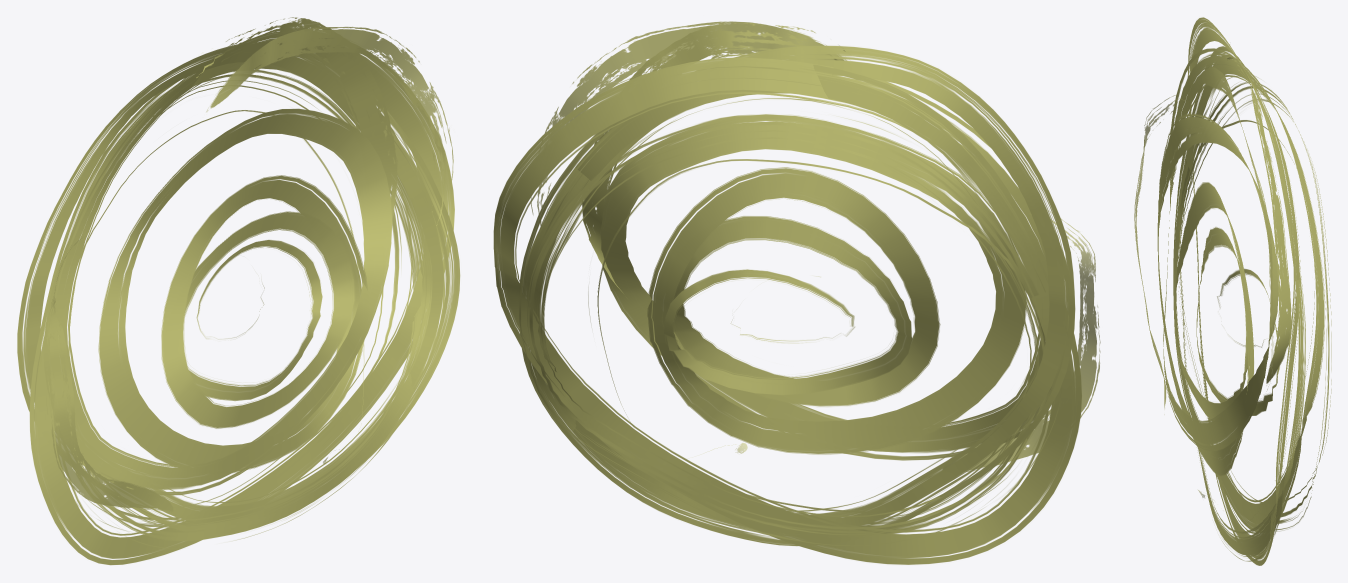
Rendered from bulb-sparkles-part1.glb.
The picture shows the model from 3 angles, left to right: view 1: azimuth 30°, elevation 25°; view 2: azimuth 150°, elevation 25°; view 3: azimuth 270°, elevation 25°; orthographic projection. The views are drawn at different scales.
Parts seen in each view (by area): view 1: Object_8; view 2: Object_8; view 3: Object_8.
Part boxes in pixels (x1,y1,x2,y2): Object_8: (17, 17, 460, 565); Object_8: (493, 21, 1100, 564); Object_8: (1134, 17, 1331, 565).
Bounding box in the file's own units: 0.2477 × 0.2385 × 0.09.
1 material, 1 textured.
